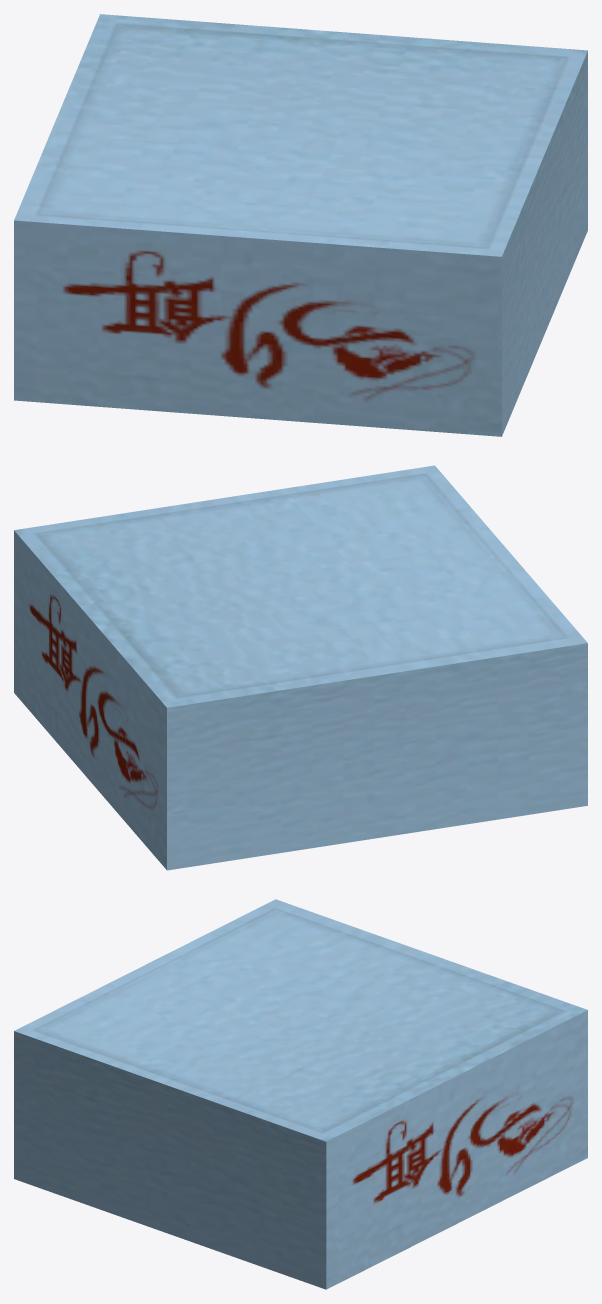
The picture shows the model from 3 angles, top to bottom: view 1: azimuth 30°, elevation 25°; view 2: azimuth 150°, elevation 25°; view 3: azimuth 270°, elevation 25°; orthographic projection. The views are drawn at different scales.
Visible parts, largest first — view 1: Joint_0_Object_1, Joint_0_Object_0; view 2: Joint_0_Object_1, Joint_0_Object_0; view 3: Joint_0_Object_1, Joint_0_Object_0.
Boxes of the visible parts, box(x1,y1,x2,y2) form: Joint_0_Object_1: box(14, 14, 587, 435); Joint_0_Object_0: box(14, 220, 501, 436); Joint_0_Object_1: box(14, 465, 587, 870); Joint_0_Object_0: box(14, 530, 166, 869); Joint_0_Object_1: box(14, 899, 587, 1289); Joint_0_Object_0: box(326, 1010, 587, 1289).
Size of the model in its own units: 528 by 150 by 528.
Materials: 2 (2 with a texture image).
